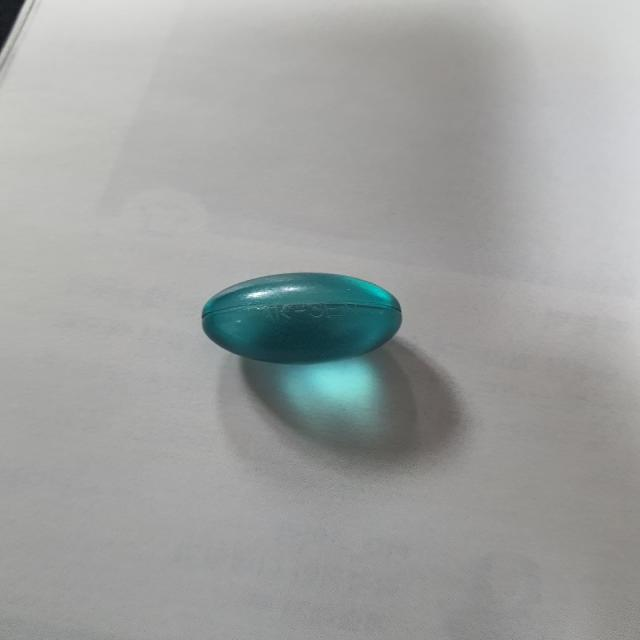pill: (190, 260, 412, 367)
